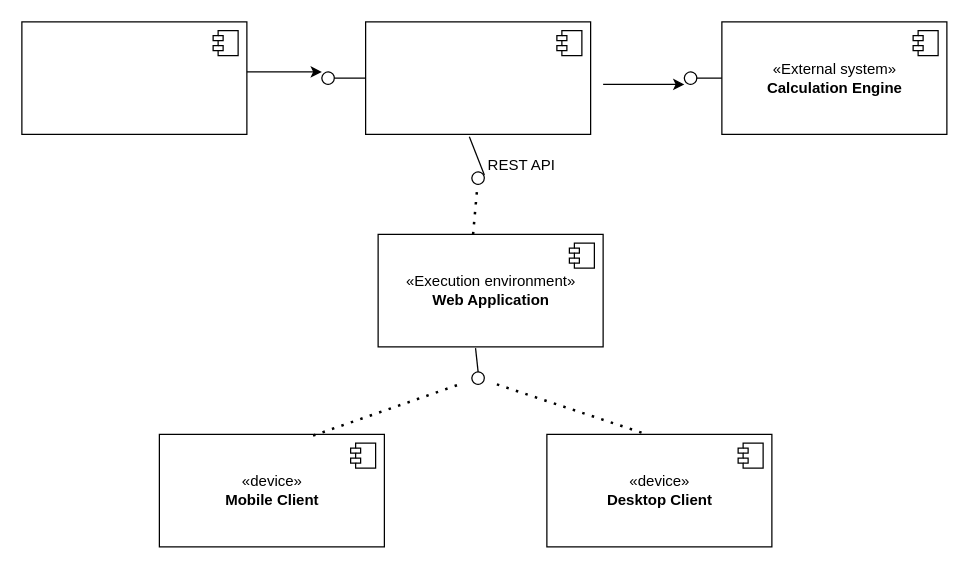
Some shapes in this 969 by 569 pixel diagram are drawn without their labels. Here are the shapes that lost their labels. From the top down, the box of each, then its label:
(21, 21, 247, 134): «External system» Federal Tax System
(364, 21, 591, 134): «Execution environment» Backend Application
